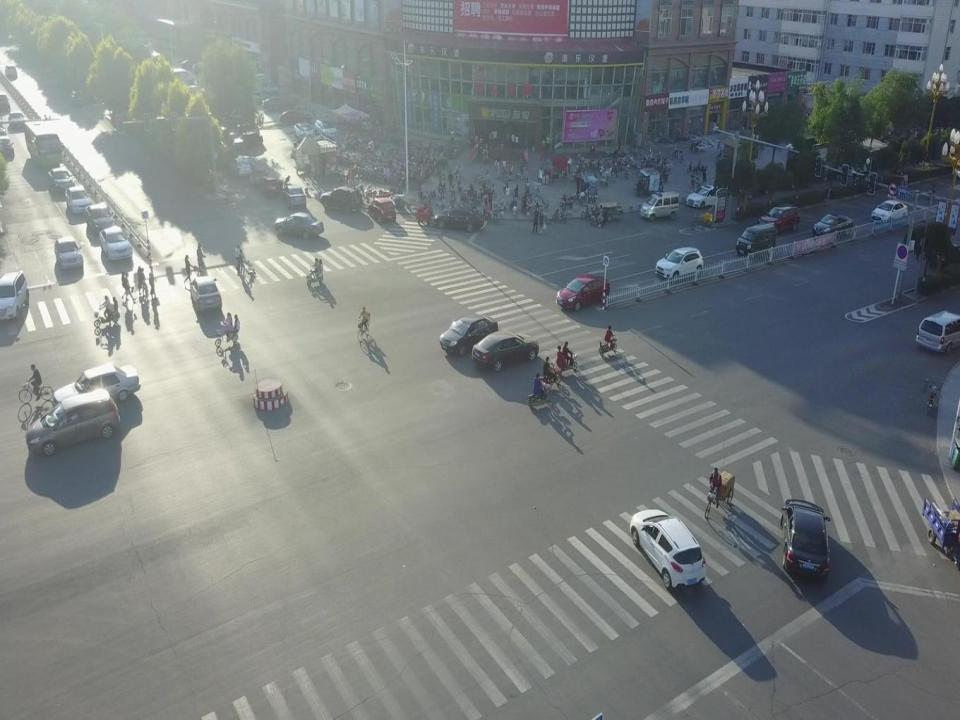bus: (23, 119, 63, 170)
car: (629, 507, 706, 590), (53, 362, 141, 414), (780, 499, 831, 578), (472, 329, 540, 371), (438, 313, 498, 355), (555, 272, 610, 316), (654, 246, 704, 280), (0, 269, 30, 322), (274, 211, 325, 238), (758, 204, 801, 234), (98, 225, 133, 261), (434, 206, 484, 231), (320, 186, 362, 212), (686, 184, 729, 208), (54, 236, 83, 270), (812, 214, 853, 236), (85, 204, 115, 232), (870, 200, 908, 222), (65, 186, 92, 214), (48, 166, 75, 194), (368, 197, 396, 222), (261, 94, 297, 113), (233, 130, 263, 150), (283, 184, 306, 209), (279, 108, 311, 124), (314, 118, 337, 140), (227, 157, 252, 177), (258, 176, 280, 198), (293, 121, 315, 142), (0, 136, 14, 158), (8, 111, 24, 129), (4, 64, 18, 79), (0, 90, 10, 110)
van: (24, 387, 121, 456), (915, 309, 960, 354), (736, 222, 775, 256), (640, 192, 680, 221)
